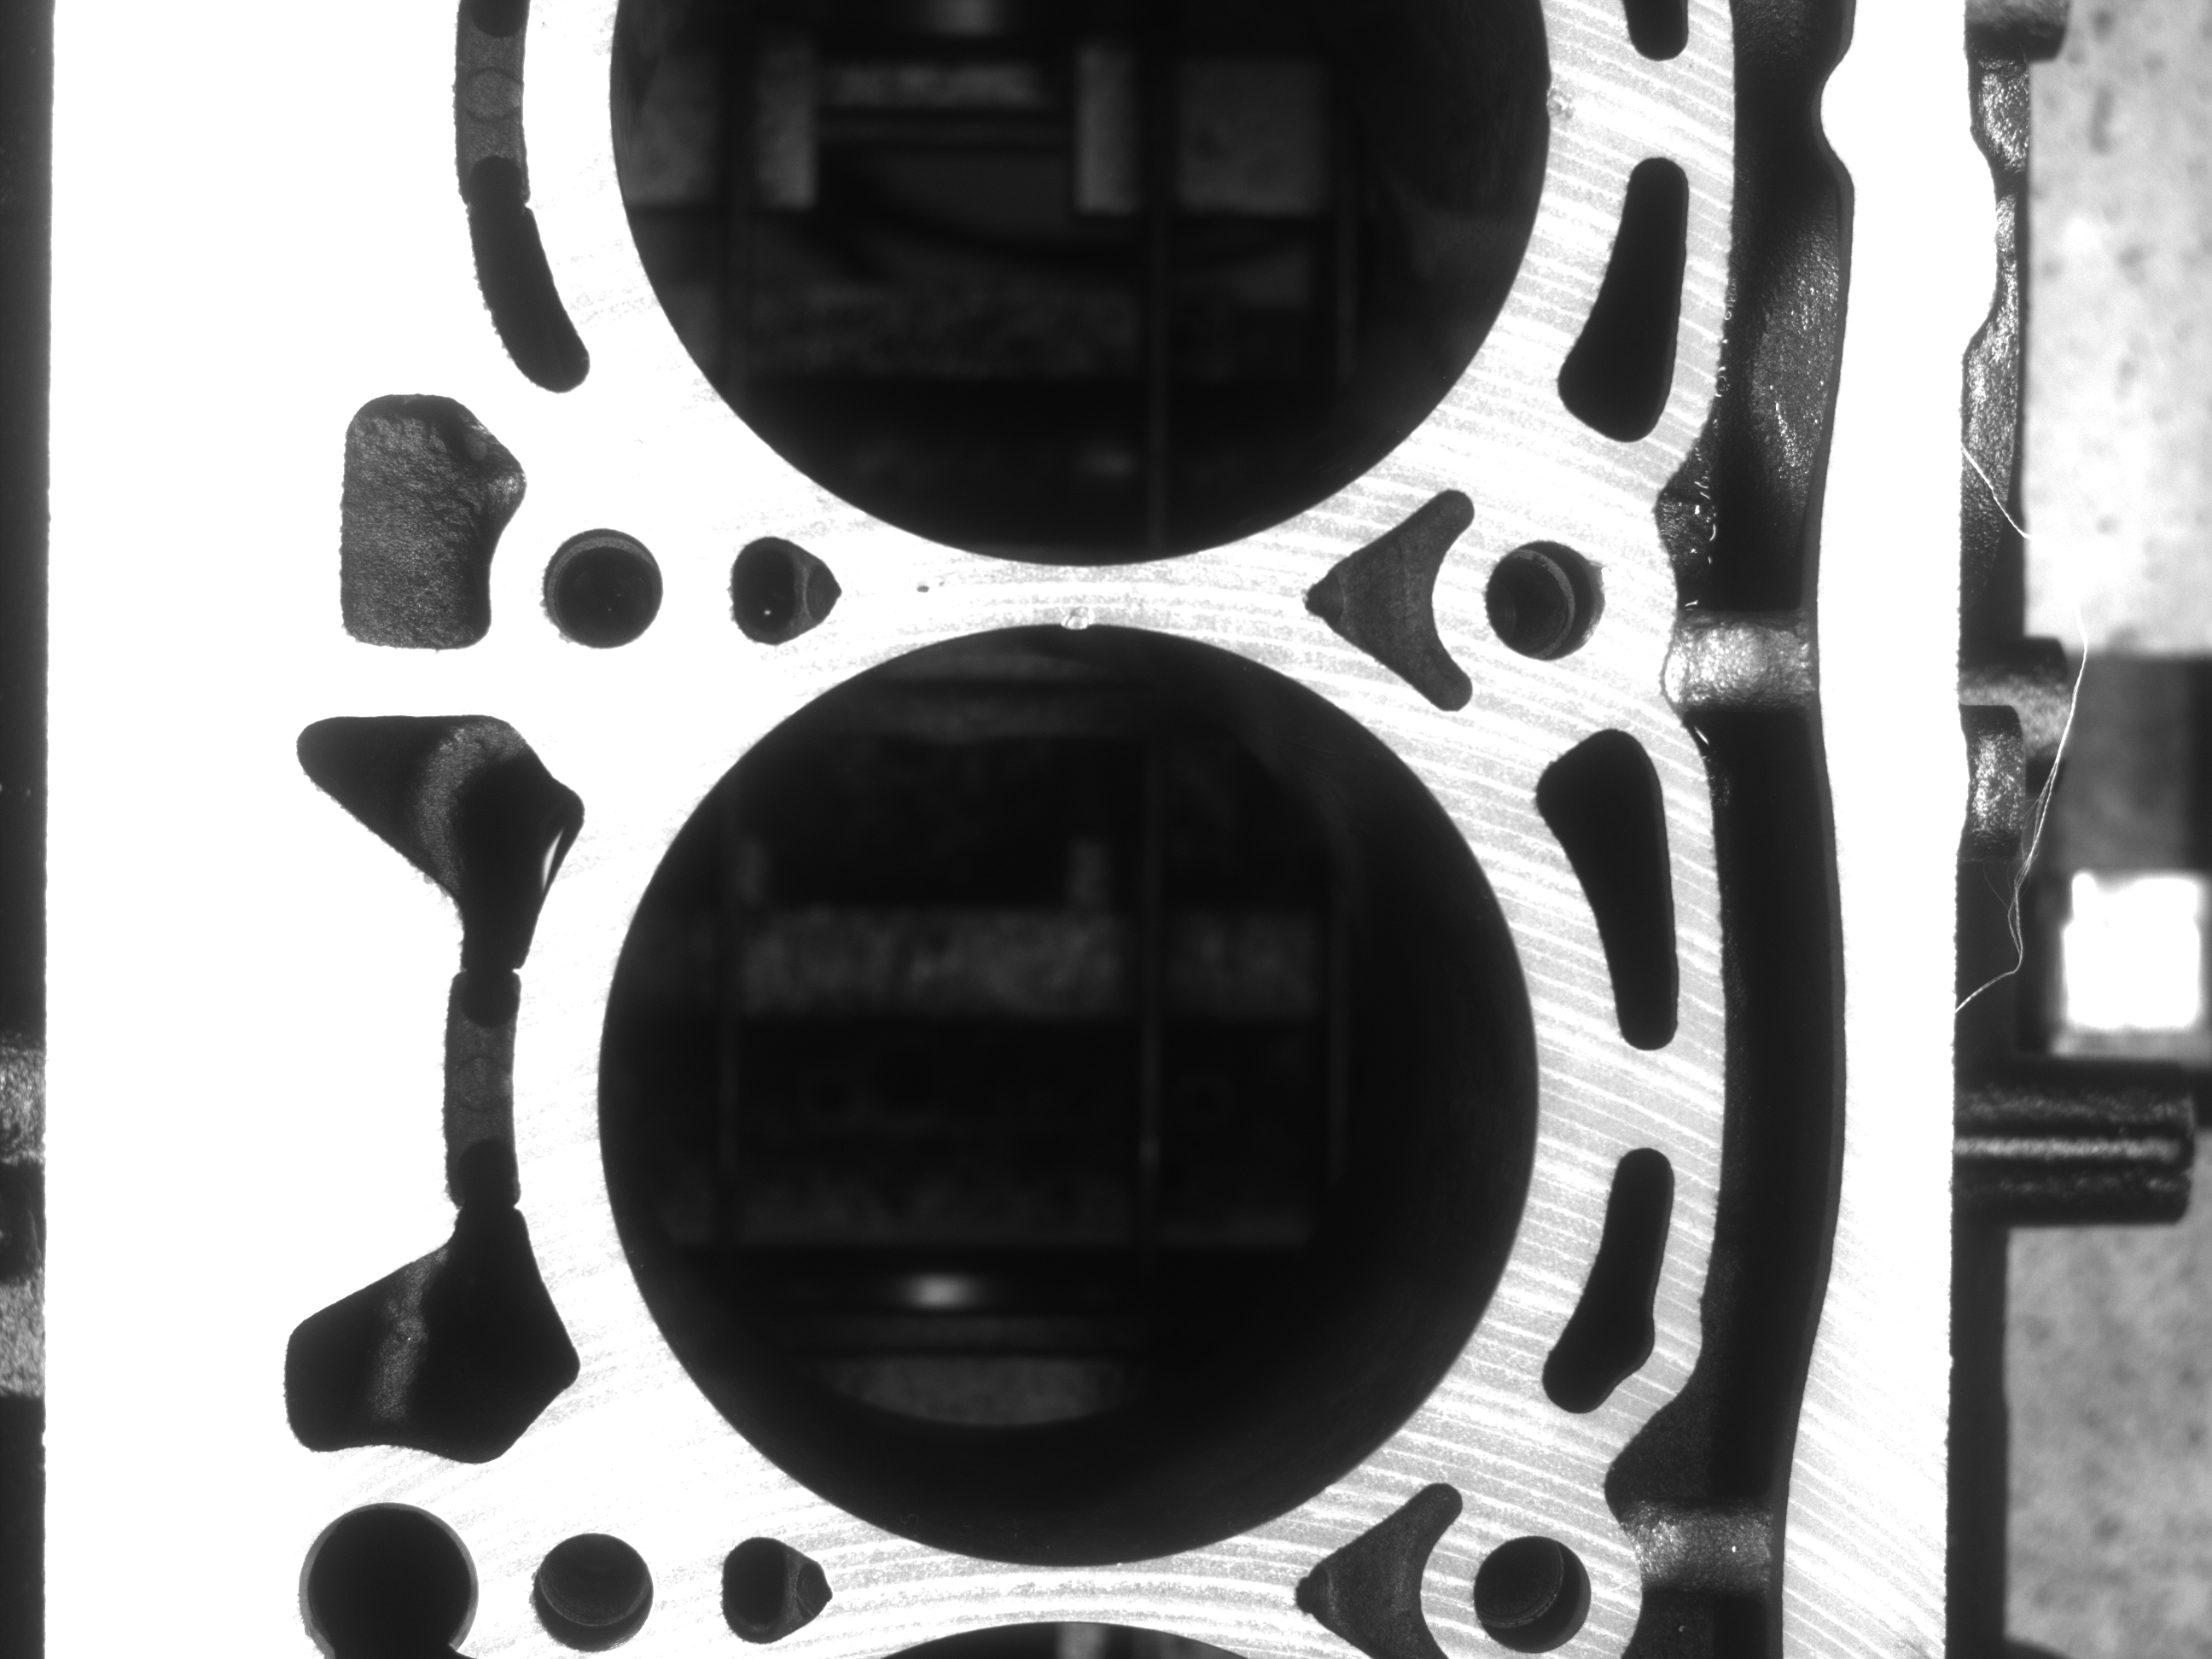sandhole: (1547, 70, 1580, 129), (1050, 591, 1096, 624)
